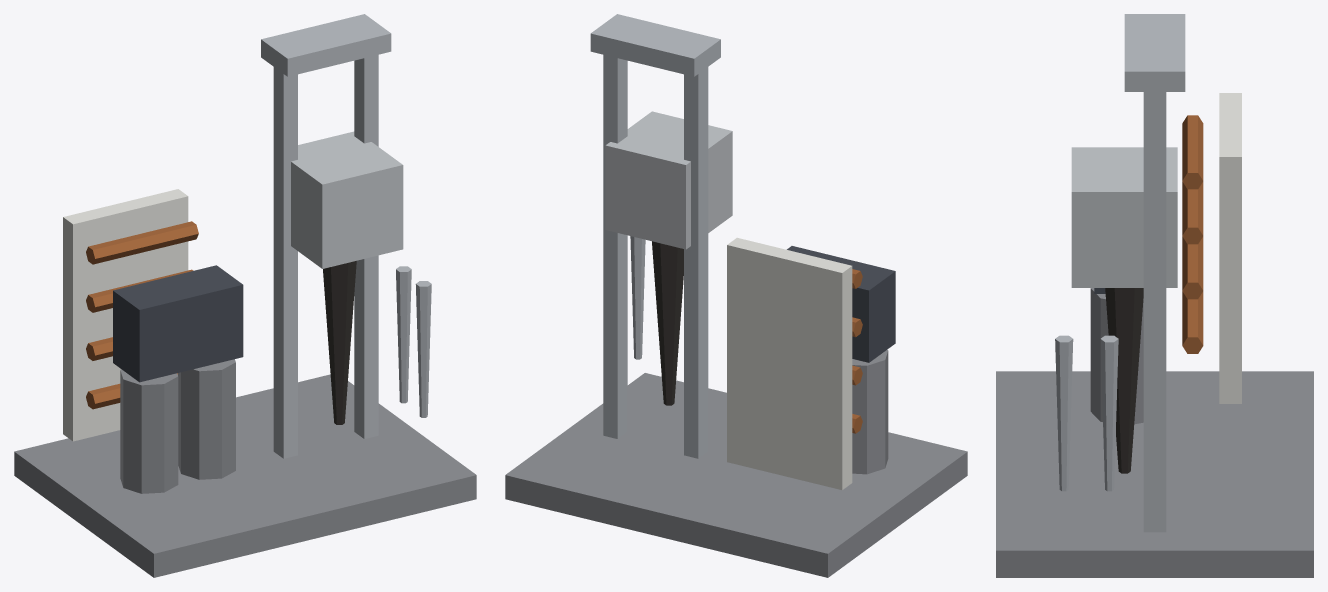
File: drill-corer-cryo.glb
3 renders of one model, left to right at view 1: azimuth 30°, elevation 25°; view 2: azimuth 150°, elevation 25°; view 3: azimuth 270°, elevation 25°, orthographic. The views are drawn at different scales.
Visible parts, largest first — view 1: DrillCorerCryo_Titanium, DrillCorerCryo_Steel, DrillCorerCryo_Hull, DrillCorerCryo_Aluminum, DrillCorerCryo_Strap, DrillCorerCryo_Copper, DrillCorerCryo_NozzleDark; view 2: DrillCorerCryo_Titanium, DrillCorerCryo_Hull, DrillCorerCryo_Steel, DrillCorerCryo_Aluminum, DrillCorerCryo_Strap, DrillCorerCryo_NozzleDark, DrillCorerCryo_Copper; view 3: DrillCorerCryo_Titanium, DrillCorerCryo_Steel, DrillCorerCryo_Aluminum, DrillCorerCryo_Hull, DrillCorerCryo_Copper, DrillCorerCryo_NozzleDark.
Boxes of the visible parts, left/top/right/bottom form: DrillCorerCryo_Titanium: left=14, top=359, right=476, bottom=577; DrillCorerCryo_Steel: left=261, top=14, right=431, bottom=458; DrillCorerCryo_Hull: left=63, top=189, right=188, bottom=441; DrillCorerCryo_Aluminum: left=291, top=131, right=403, bottom=268; DrillCorerCryo_Strap: left=113, top=265, right=243, bottom=382; DrillCorerCryo_Copper: left=86, top=221, right=198, bottom=409; DrillCorerCryo_NozzleDark: left=323, top=261, right=356, bottom=424; DrillCorerCryo_Titanium: left=505, top=350, right=967, bottom=577; DrillCorerCryo_Hull: left=727, top=237, right=852, bottom=490; DrillCorerCryo_Steel: left=590, top=14, right=720, bottom=458; DrillCorerCryo_Aluminum: left=605, top=111, right=732, bottom=249; DrillCorerCryo_Strap: left=787, top=246, right=895, bottom=362; DrillCorerCryo_NozzleDark: left=652, top=241, right=683, bottom=405; DrillCorerCryo_Copper: left=852, top=269, right=862, bottom=433; DrillCorerCryo_Titanium: left=996, top=288, right=1313, bottom=577; DrillCorerCryo_Steel: left=1055, top=14, right=1185, bottom=532; DrillCorerCryo_Aluminum: left=1071, top=147, right=1177, bottom=287; DrillCorerCryo_Hull: left=1219, top=93, right=1241, bottom=403; DrillCorerCryo_Copper: left=1182, top=115, right=1203, bottom=353; DrillCorerCryo_NozzleDark: left=1105, top=288, right=1143, bottom=473.
Bounding box in the file's own units: 0.56 × 0.715 × 0.42.
